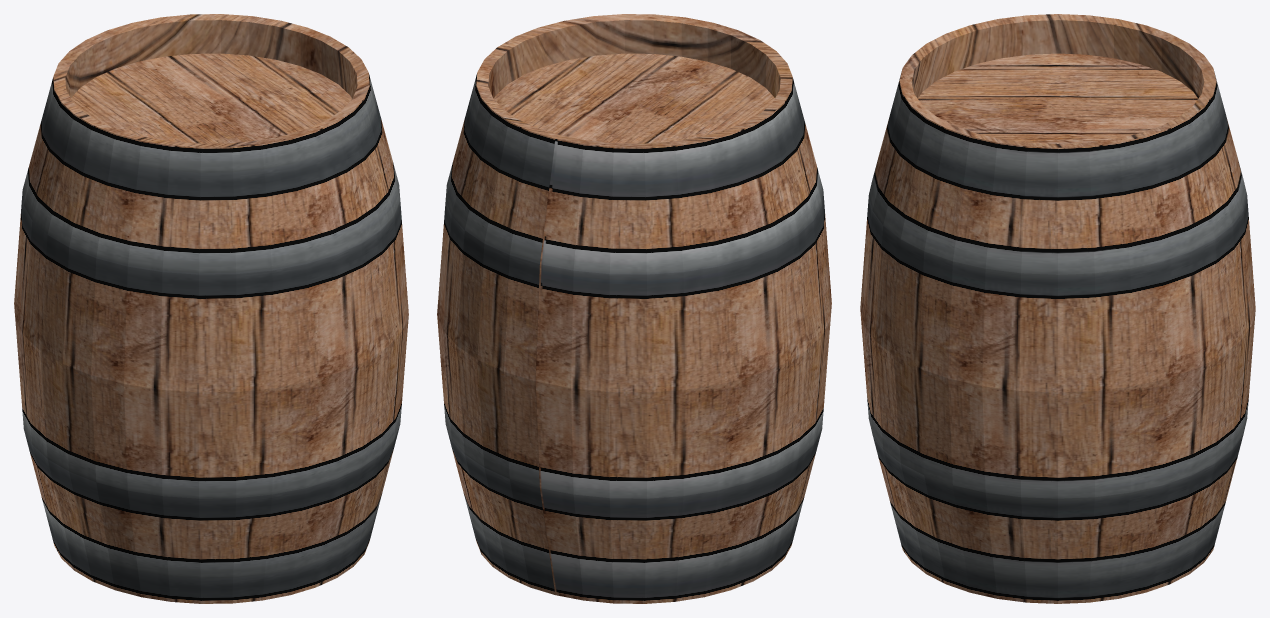
File: fass.obj
3 renders of one model, left to right at view 1: azimuth 30°, elevation 25°; view 2: azimuth 150°, elevation 25°; view 3: azimuth 270°, elevation 25°, orthographic.
Parts seen in each view (by area): view 1: Cylinder; view 2: Cylinder; view 3: Cylinder.
Boxes of the visible parts, left/top/right/bottom form: Cylinder: left=14, top=14, right=408, bottom=603; Cylinder: left=437, top=14, right=831, bottom=603; Cylinder: left=860, top=14, right=1255, bottom=603.
Size of the model in its own units: 2.09 by 2.66 by 2.09.
